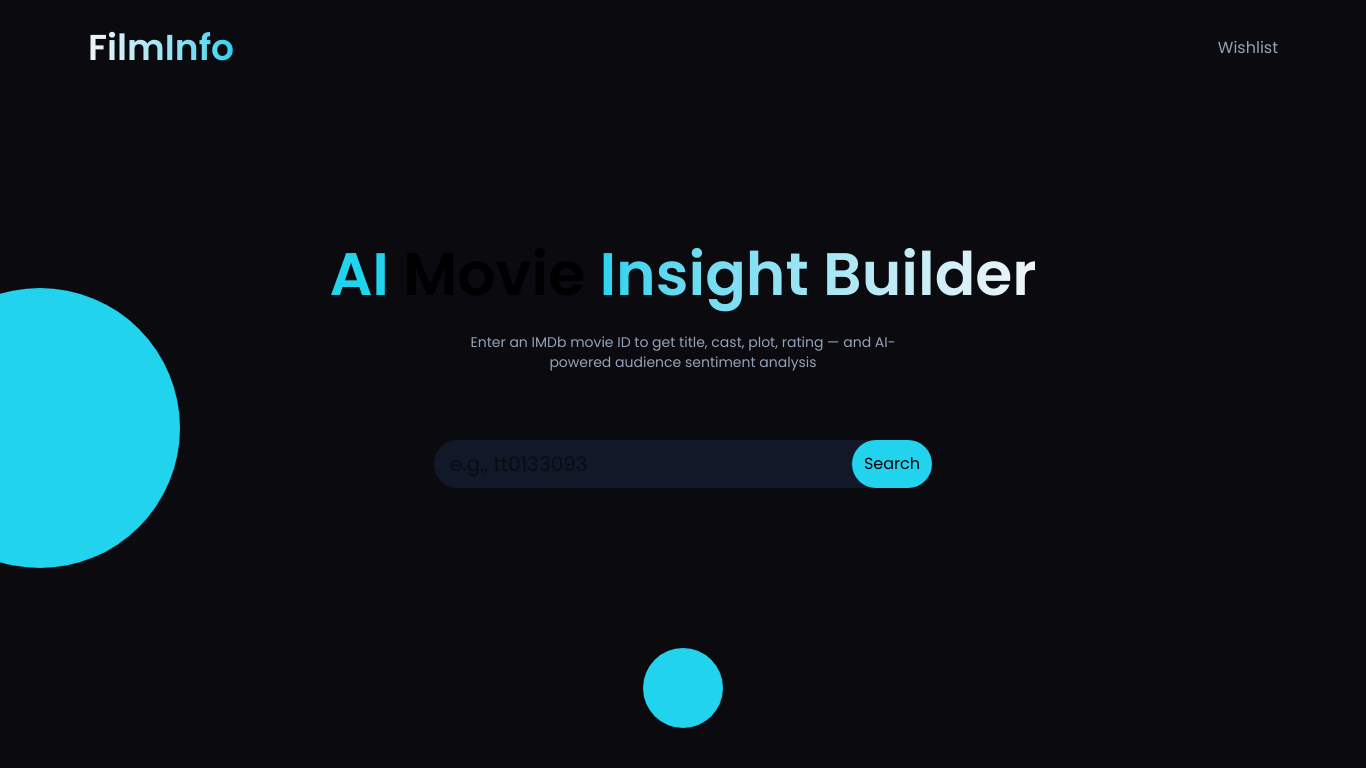
Test: Home Page › clears validation error when typing
Step 1. Click the button "Search" → (892, 464), box [852,440,932,488]
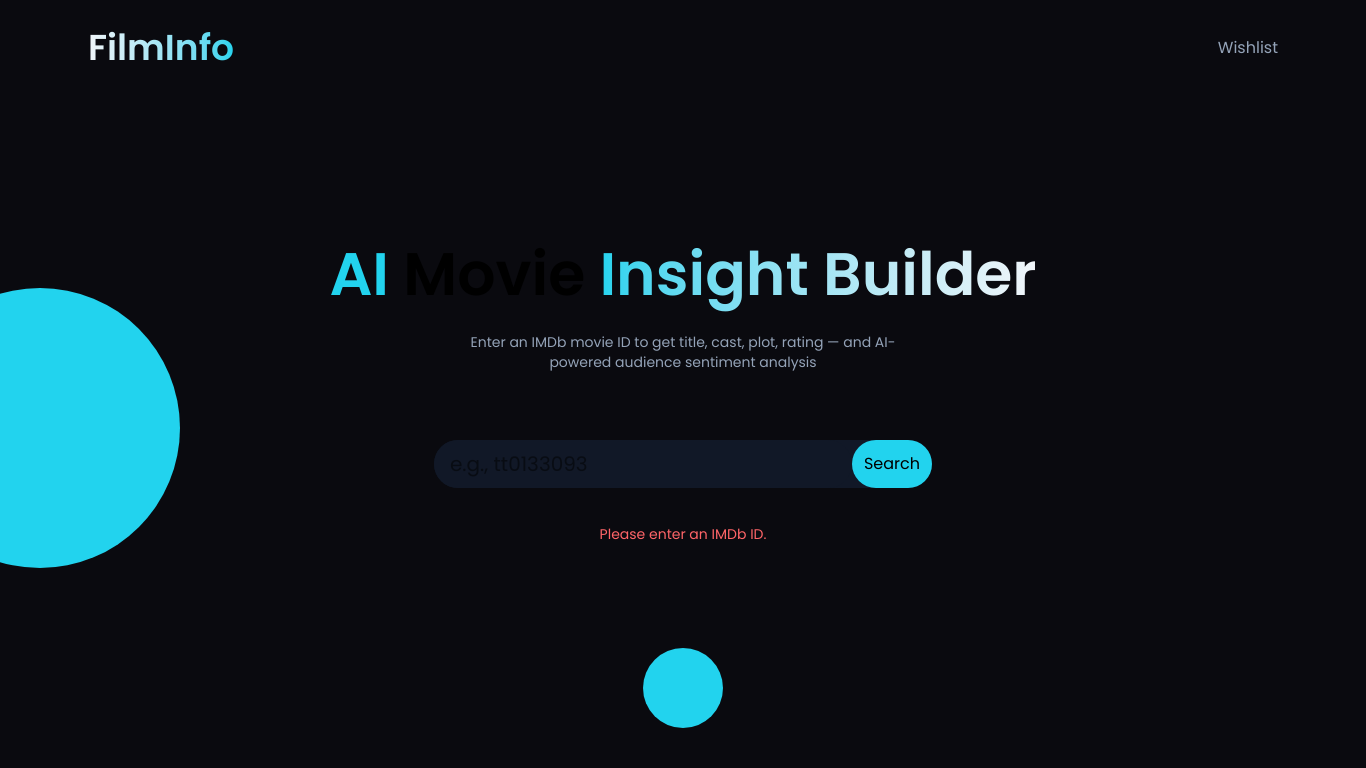
Expected: the text "Please enter an IMDb ID." is shown, [600,524,766,544]
Step 2. Type "t" into the field with placeholder "e.g., tt0133093" → (643, 464), box [434,440,852,488]
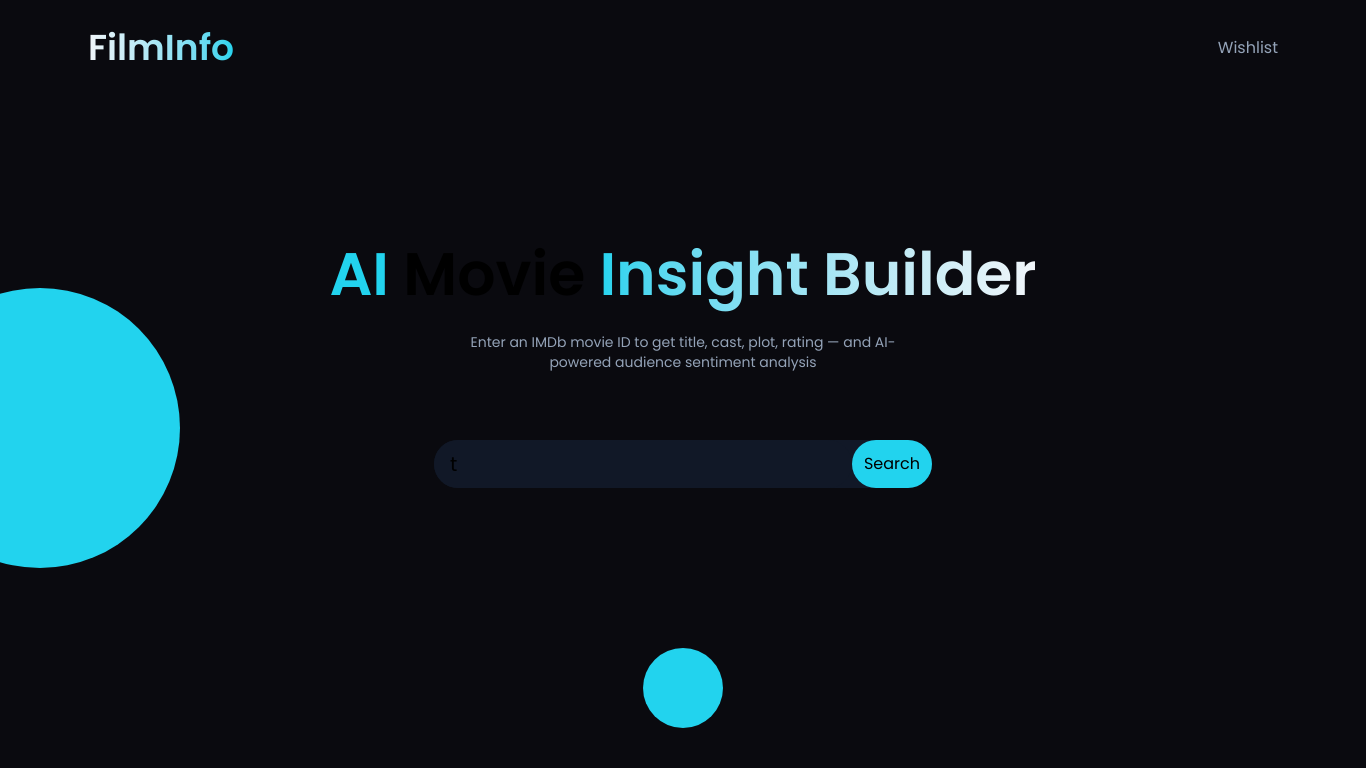
Expected: the text "Please enter an IMDb ID." is gone
